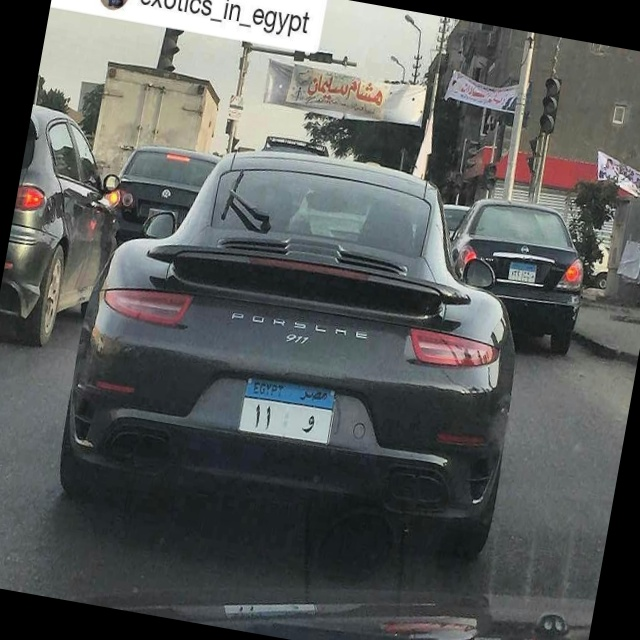License Plate: (233, 368, 343, 454), (504, 257, 541, 287)
